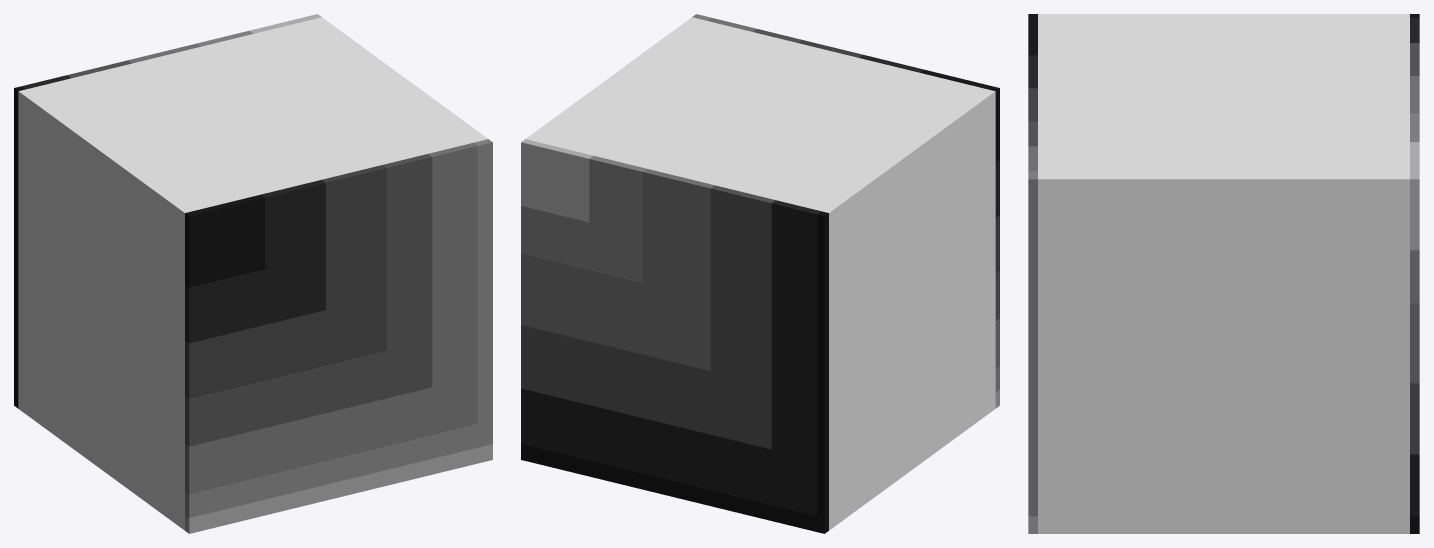
The model's file is MuroRombo.FBX.
3 renders of one model, left to right at view 1: azimuth 30°, elevation 25°; view 2: azimuth 150°, elevation 25°; view 3: azimuth 270°, elevation 25°, orthographic. The views are drawn at different scales.
Visible parts, largest first — view 1: MuroRombo; view 2: MuroRombo; view 3: MuroRombo.
Boxes of the visible parts, x1,y1,x2,y2 form: MuroRombo: (14, 14, 492, 533); MuroRombo: (521, 14, 999, 533); MuroRombo: (1028, 14, 1419, 533).
Bounding box in the file's own units: 1 × 1 × 1.
Materials: 1 (1 with a texture image).
